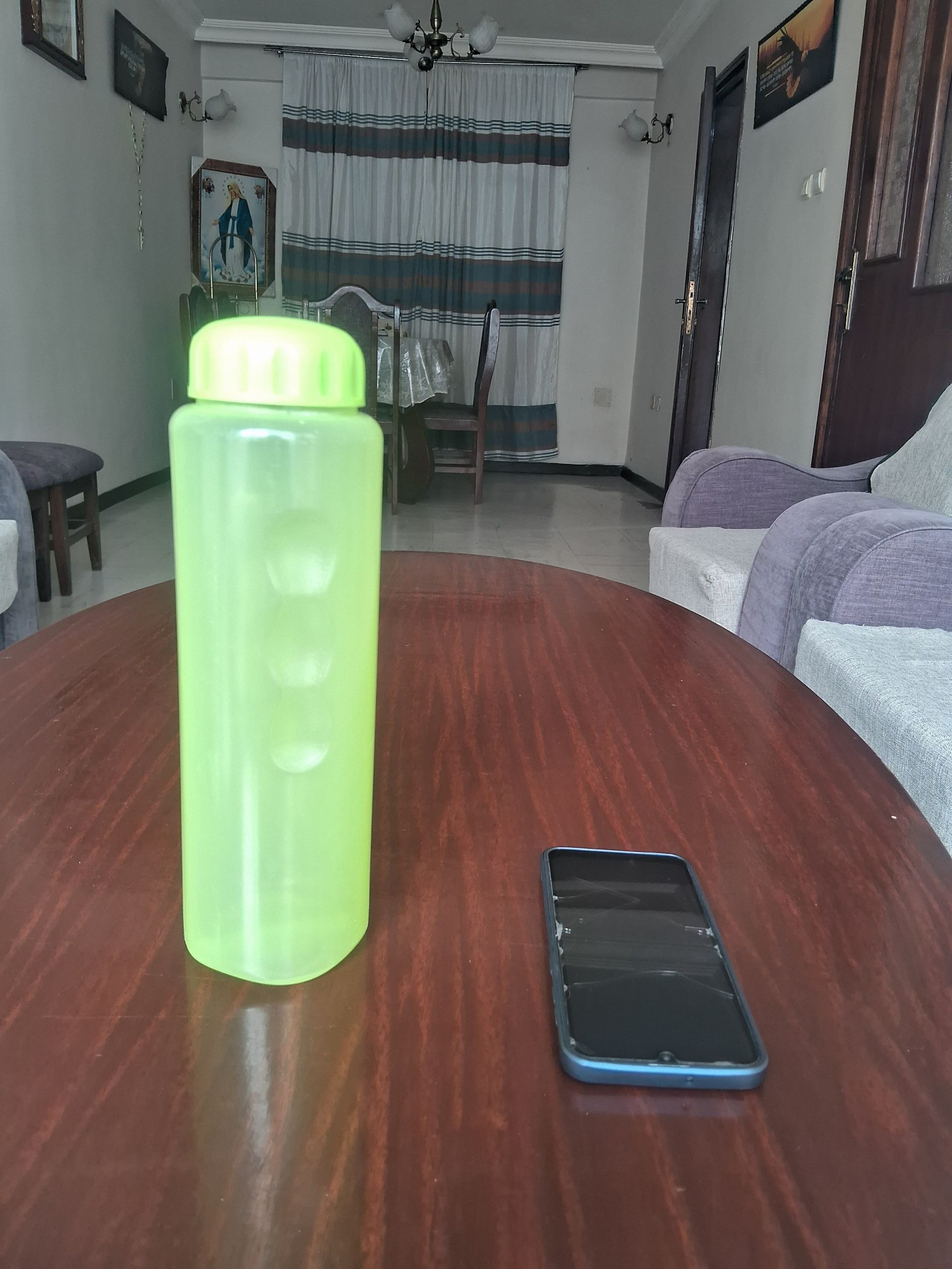Smart_phone: (525, 838, 780, 1101)
Water_bottle: (155, 308, 418, 990)
